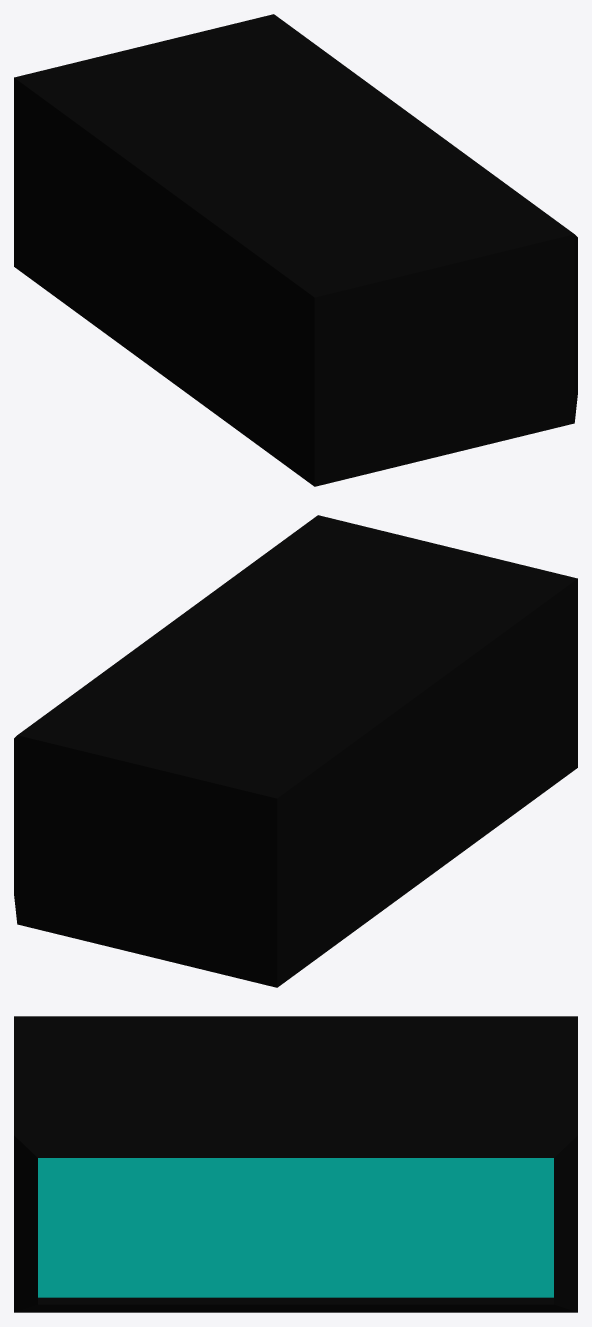
The model's file is Headset.fbx.
The picture shows the model from 3 angles, top to bottom: view 1: azimuth 30°, elevation 25°; view 2: azimuth 150°, elevation 25°; view 3: azimuth 270°, elevation 25°; orthographic projection. The views are drawn at different scales.
Parts seen in each view (by area): view 1: Cube; view 2: Cube; view 3: Cube.
Boxes of the visible parts, x1=… form: Cube: x1=14, y1=14, x2=577, y2=486; Cube: x1=14, y1=515, x2=577, y2=987; Cube: x1=14, y1=1016, x2=577, y2=1312.
Bounding box in the file's own units: 1.06 × 0.6942 × 2.
